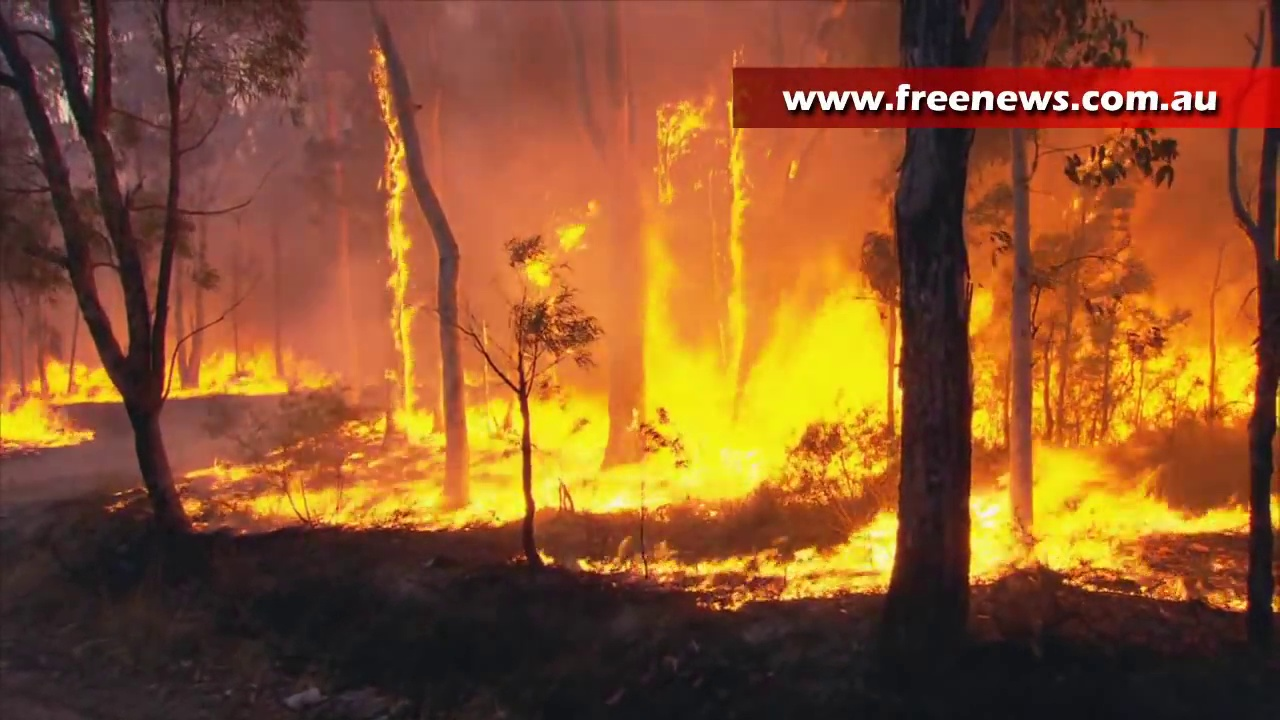fire: (446, 286, 905, 513), (971, 411, 1251, 602), (597, 517, 896, 598), (259, 484, 445, 526), (201, 346, 295, 393), (390, 136, 404, 378), (5, 401, 78, 446), (661, 101, 688, 197), (48, 364, 115, 399), (731, 140, 742, 284), (396, 406, 436, 438), (560, 227, 583, 247)
